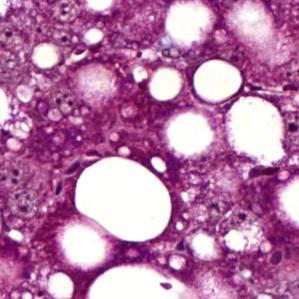steatosis: (75, 157, 177, 239), (192, 60, 242, 102)
